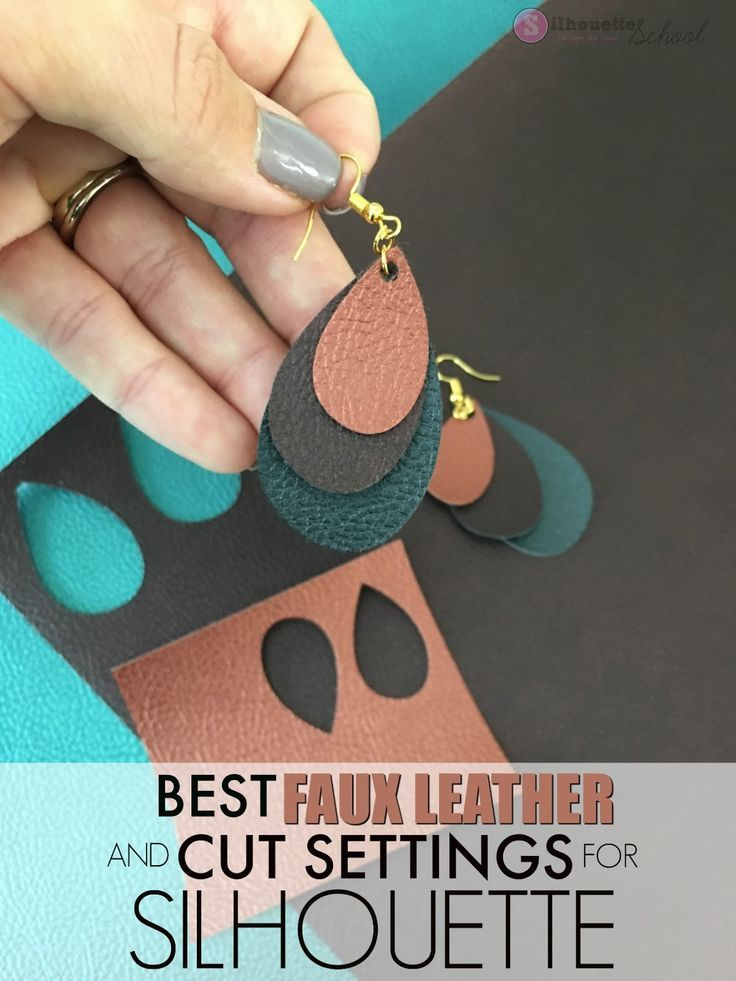cuero: (107, 243, 544, 765)
